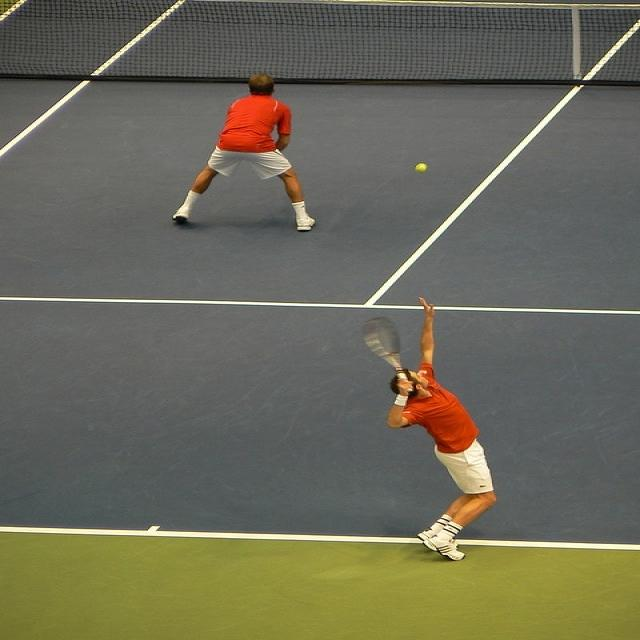ball: (413, 162, 427, 172)
